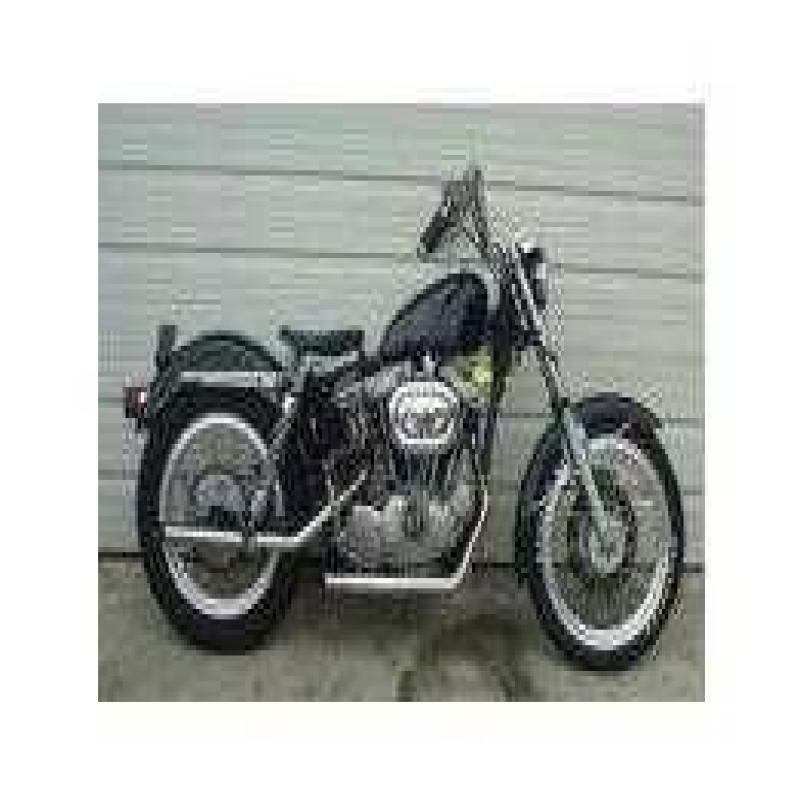bike: (127, 110, 686, 667)
